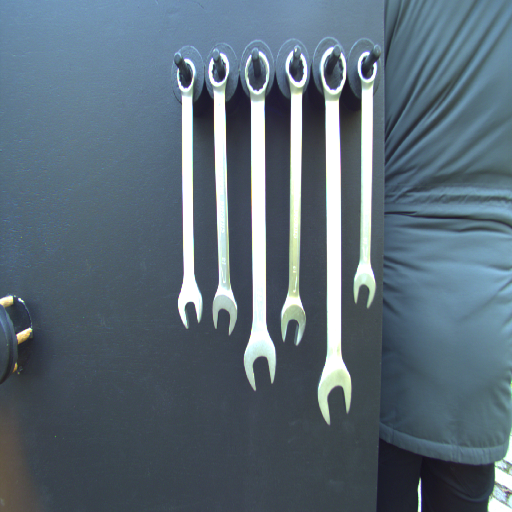bottom: (316, 359, 353, 428), (242, 332, 278, 395), (176, 274, 204, 331), (278, 296, 309, 347), (211, 287, 238, 338), (351, 257, 376, 311)
top: (318, 45, 347, 104), (243, 49, 271, 102), (284, 48, 309, 96), (172, 54, 198, 94), (207, 51, 231, 93), (356, 50, 379, 92)
